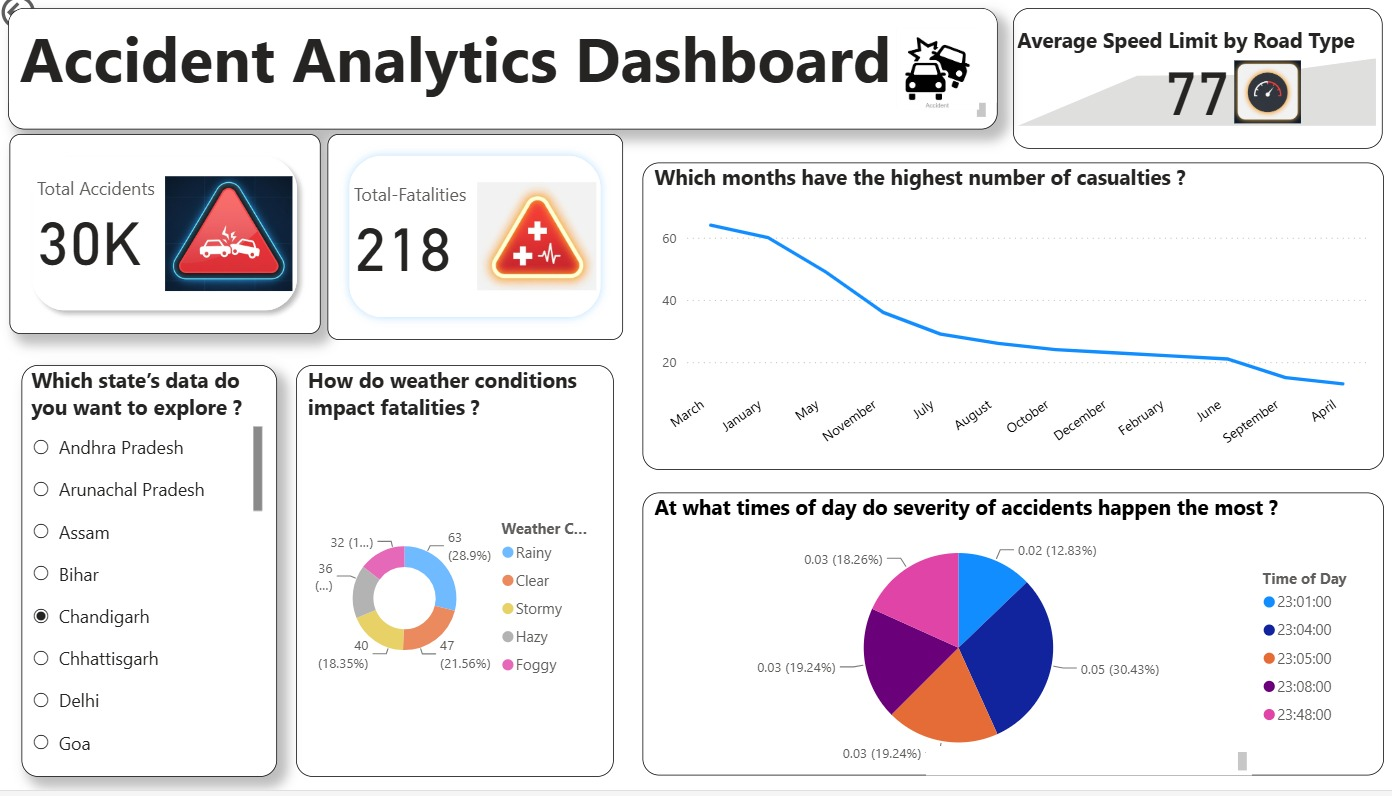

What the dashboard file says about the page in this screenshot:
{"tool":"powerbi","page":{"name":"Page 1","canvas":[1280,720],"ordinal":1},"visuals":[{"type":"actionButton","box":[0,0,100,40],"z":0},{"type":"pieChart","title":" At what times of day do severity of accidents happen the most ?","fields":{"Y":["accident_prediction_india.Fatality Rate (%)"],"Category":["accident_prediction_india.Time of Day"],"Series":["accident_prediction_india.Accident Severity"]},"box":[581.4,451.7,667.4,254.8],"z":1000},{"type":"kpi","fields":{"Indicator":["accident_prediction_india.Average Speed Limit"],"TrendLine":["accident_prediction_india.Road Type"]},"box":[915.9,15.6,332.9,126.6],"z":2000},{"type":"donutChart","title":"How do weather conditions impact fatalities ?","fields":{"Y":["accident_prediction_india.Total-Fatalities"],"Category":["accident_prediction_india.Weather Conditions"]},"box":[270.4,337.6,286,370.4],"z":3000},{"type":"listSlicer","title":"Which state’s data do you want to explore ?","fields":{"Values":["accident_prediction_india.State Name"]},"box":[23.4,337.6,229.8,370.4],"z":4000},{"type":"lineChart","title":"Which months have the highest number of casualties ?","fields":{"Category":["accident_prediction_india.Month"],"Y":["Sum(accident_prediction_india.Number of Casualties)"]},"box":[581.4,154.7,667.4,276.6],"z":5000},{"type":"textbox","box":[836.7,680,293.3,26.7],"z":6000},{"type":"textbox","title":"       Accident Analytics Dashboard","box":[10.9,15.6,890.9,109.4],"z":7000},{"type":"cardVisual","title":"Total Accidents","fields":{"Data":["accident_prediction_india.Total Accidents"]},"box":[11.7,130,280,180],"z":8000},{"type":"cardVisual","title":"Total Factalities","fields":{"Data":["accident_prediction_india.Total-Fatalities"]},"box":[298.5,129.7,266,185],"z":9000},{"type":"image","box":[711.2,28.1,272,84.4],"z":10000},{"type":"image","box":[1008.1,57.8,272,67.2],"z":11000}]}

Visuals, with their boxes in screenshot pixels (x1, y1, x2, y2), scaled from the page's 1280x720 canvas onto the 1392x796 screenshot:
actionButton: left=0, top=0, right=109, bottom=44
" At what times of day do severity of accidents happen the most ?" pieChart: left=632, top=499, right=1358, bottom=781
kpi - accident_prediction_india.Average Speed Limit x accident_prediction_india.Road Type: left=996, top=17, right=1358, bottom=157
"How do weather conditions impact fatalities ?" donutChart: left=294, top=373, right=605, bottom=783
"Which state’s data do you want to explore ?" listSlicer: left=25, top=373, right=275, bottom=783
"Which months have the highest number of casualties ?" lineChart: left=632, top=171, right=1358, bottom=477
textbox: left=910, top=752, right=1229, bottom=781
"       Accident Analytics Dashboard" textbox: left=12, top=17, right=981, bottom=138
"Total Accidents" cardVisual: left=13, top=144, right=317, bottom=343
"Total Factalities" cardVisual: left=325, top=143, right=614, bottom=348
image: left=773, top=31, right=1069, bottom=124
image: left=1096, top=64, right=1391, bottom=138
